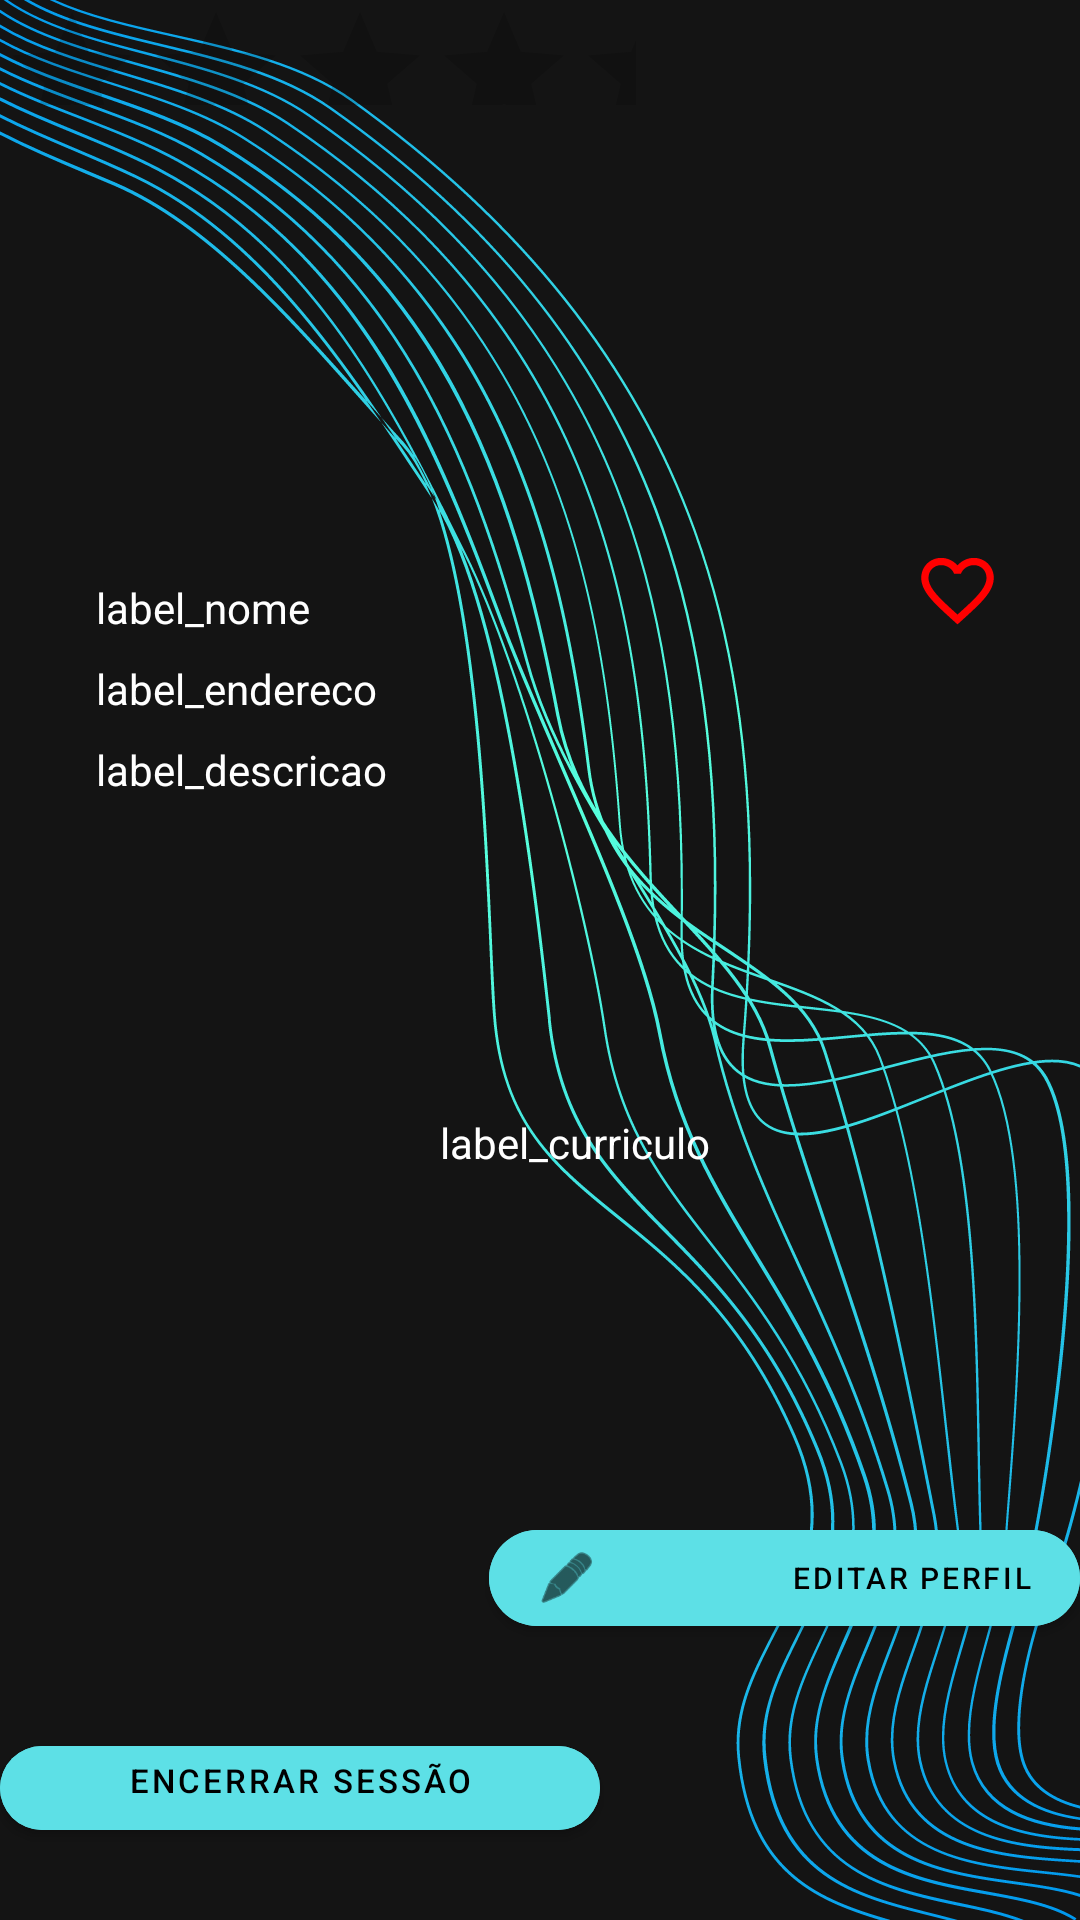

Named icons in this screenshot (1080 x 1920) and their centers, (x=x, y=y):
favorite border: (x=957, y=591)
